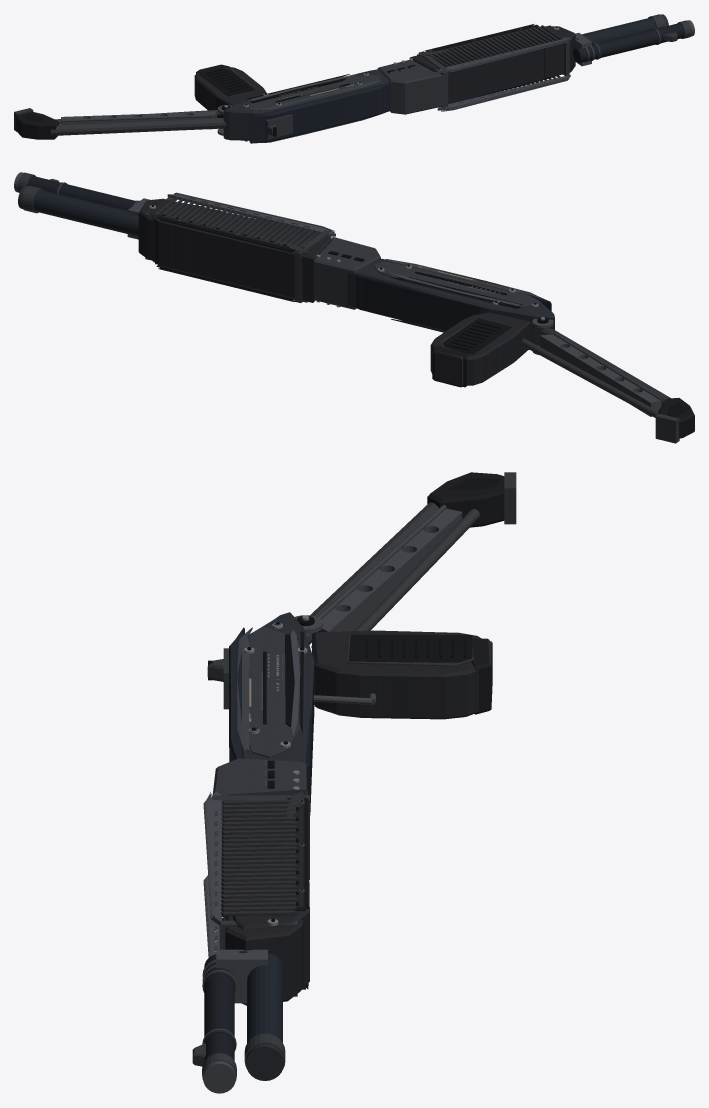
The model's file is crossfire-s12-v04-performance.glb.
3 views of the same model, one above another, from view 1: azimuth 30°, elevation 25°; view 2: azimuth 150°, elevation 25°; view 3: azimuth 270°, elevation 25° (orthographic). The views are drawn at different scales.
Visible parts, largest first — view 1: Handguard/Polymer sculpted body, Receiver/Upper rounded ridge, Handguard/Transition sleeve, Stock/Top diagonal rail, Forebody/Upper cylinder, Grip/Polymer ergonomic contour, Receiver/Main stamped silhouette, Receiver/Side plate +1, Handguard/Forward taper and rounded tip, Stock/Perforated ribbon with open cutouts, Stock/Rear buttpad silhouette, Forebody/Lower cylinder (+15 smaller); view 2: Handguard/Polymer sculpted body, Receiver/Lower inset shape, Grip/Polymer ergonomic contour, Handguard/Transition sleeve, Receiver/Main stamped silhouette, Forebody/Lower cylinder, Stock/Perforated ribbon with open cutouts, Receiver/Side plate +1, Forebody/Upper cylinder, Stock/Bottom diagonal reinforcement, Grip/Molded side border +1, Handguard/Upper perforated channel +1 (+9 smaller); view 3: Grip/Polymer ergonomic contour, Receiver/Side plate +1, Stock/Perforated ribbon with open cutouts, Grip/Molded side border +1, Handguard/Forward taper and rounded tip, Handguard/Transition sleeve, Forebody/Lower cylinder, Forebody/Upper cylinder, Stock/Rear buttpad silhouette, Handguard/Polymer sculpted body, Receiver/Main stamped silhouette, Stock/Bottom diagonal reinforcement (+7 smaller).
Boxes of the visible parts, box(x1,y1,x2,y2) form: Handguard/Polymer sculpted body: box(409, 26, 567, 103); Receiver/Upper rounded ridge: box(249, 81, 390, 143); Handguard/Transition sleeve: box(377, 59, 442, 114); Stock/Top diagonal rail: box(50, 117, 226, 135); Forebody/Upper cylinder: box(573, 23, 684, 63); Grip/Polymer ergonomic contour: box(194, 67, 266, 117); Receiver/Main stamped silhouette: box(223, 69, 388, 140); Receiver/Side plate +1: box(248, 74, 380, 110); Handguard/Forward taper and rounded tip: box(544, 26, 575, 78); Stock/Perforated ribbon with open cutouts: box(61, 111, 217, 124); Stock/Rear buttpad silhouette: box(16, 111, 59, 139); Forebody/Lower cylinder: box(582, 17, 656, 43); Handguard/Polymer sculpted body: box(149, 200, 332, 302); Receiver/Lower inset shape: box(356, 273, 480, 330); Grip/Polymer ergonomic contour: box(430, 312, 530, 385); Handguard/Transition sleeve: box(314, 237, 380, 309); Receiver/Main stamped silhouette: box(347, 259, 554, 349); Forebody/Lower cylinder: box(33, 190, 138, 236); Stock/Perforated ribbon with open cutouts: box(539, 334, 661, 416); Receiver/Side plate +1: box(373, 262, 540, 308); Forebody/Upper cylinder: box(27, 176, 134, 210); Stock/Bottom diagonal reinforcement: box(521, 338, 658, 417); Grip/Molded side border +1: box(443, 318, 511, 354); Handguard/Upper perforated channel +1: box(167, 194, 335, 236); Grip/Polymer ergonomic contour: box(312, 630, 481, 719); Receiver/Side plate +1: box(248, 627, 300, 757); Stock/Perforated ribbon with open cutouts: box(317, 508, 462, 632); Grip/Molded side border +1: box(348, 634, 472, 662); Handguard/Forward taper and rounded tip: box(225, 916, 303, 1005); Handguard/Transition sleeve: box(212, 758, 306, 795); Forebody/Lower cylinder: box(247, 954, 282, 1042); Forebody/Upper cylinder: box(204, 954, 234, 1060); Stock/Rear buttpad silhouette: box(427, 472, 504, 527); Handguard/Polymer sculpted body: box(222, 789, 309, 986); Receiver/Main stamped silhouette: box(241, 612, 314, 789); Stock/Bottom diagonal reinforcement: box(354, 509, 479, 630).
Bounding box in the file's own units: 5.97 × 0.412 × 1.38.
19 materials, 19 textured.
